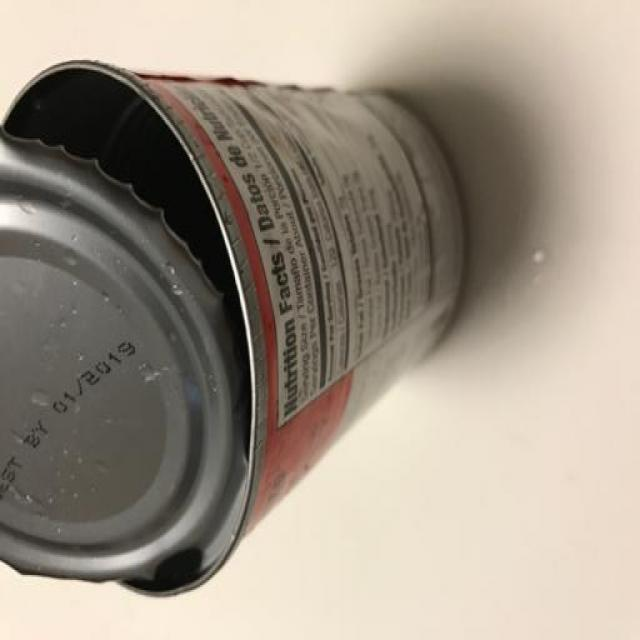metel: (1, 52, 545, 587)
